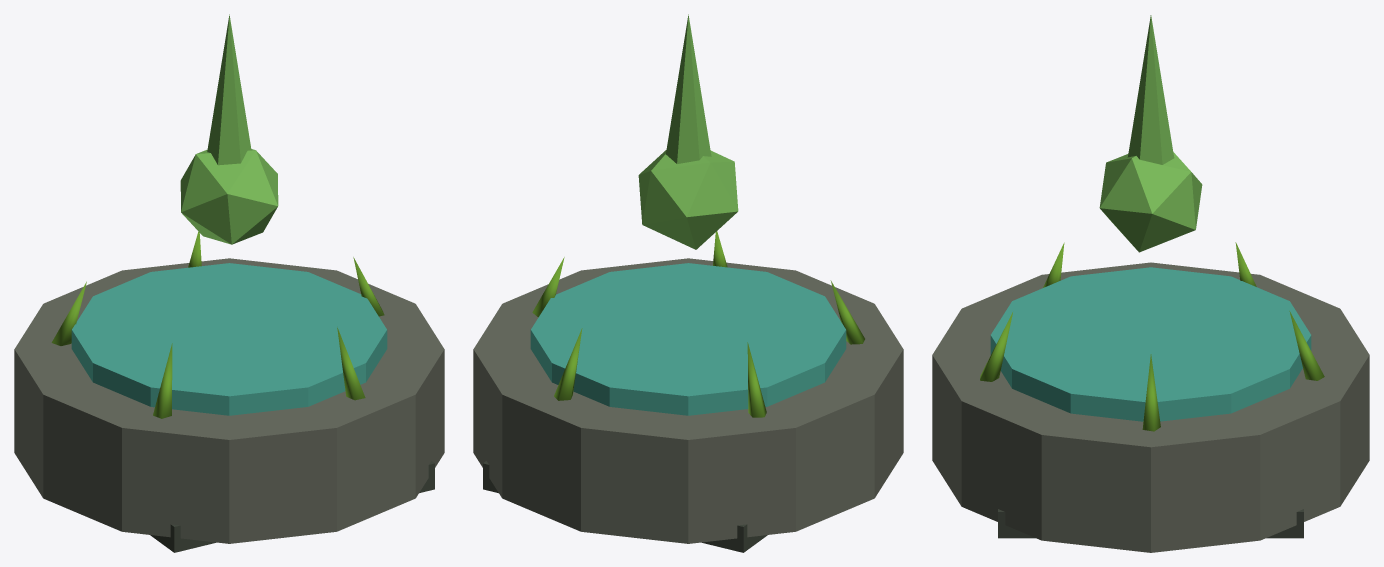
File: grove_bloom_well.glb
3 views of the same model, side by side, from view 1: azimuth 30°, elevation 25°; view 2: azimuth 150°, elevation 25°; view 3: azimuth 270°, elevation 25° (orthographic).
Visible parts, largest first — view 1: grove_bloom_well; view 2: grove_bloom_well; view 3: grove_bloom_well.
Part boxes in pixels (x1=…): grove_bloom_well: x1=14, y1=14, x2=444, y2=552; grove_bloom_well: x1=473, y1=14, x2=903, y2=552; grove_bloom_well: x1=932, y1=15, x2=1369, y2=552.
Size of the model in its own units: 30 by 34.8 by 30.
